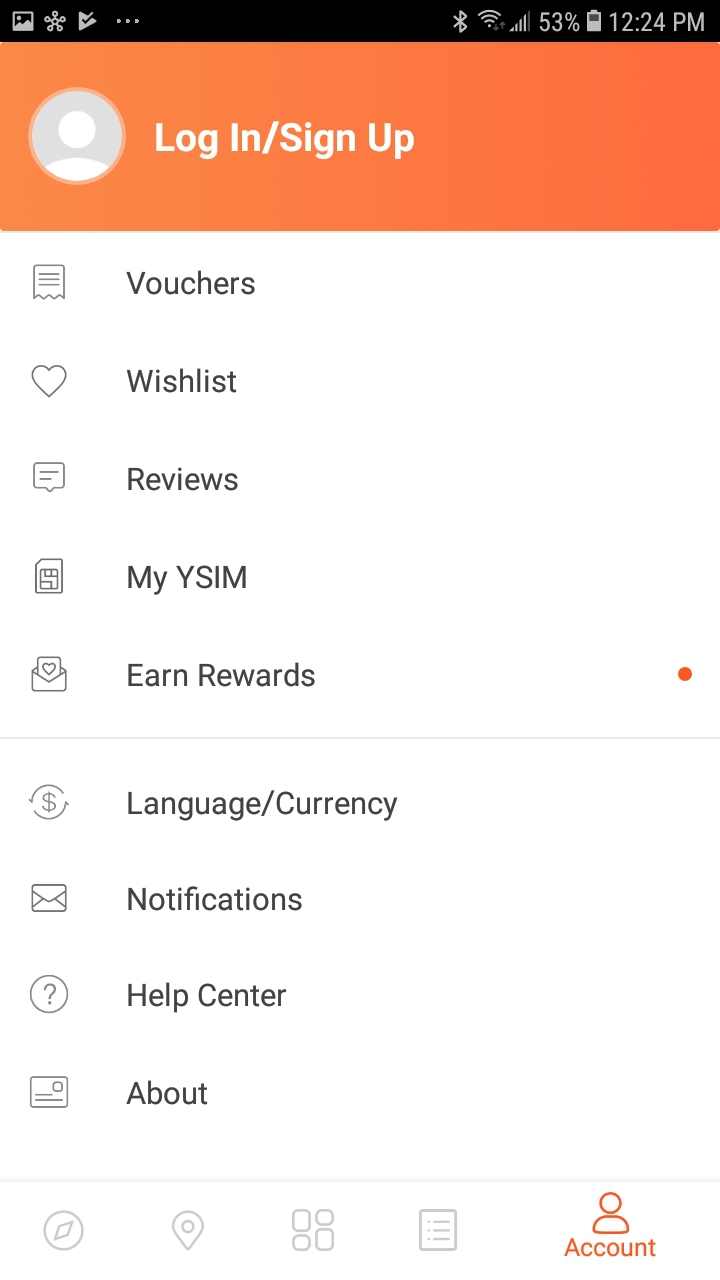Icon: (28, 87, 128, 186), (292, 1209, 335, 1252), (43, 1210, 85, 1251), (419, 1209, 458, 1252), (592, 1191, 630, 1235), (29, 784, 71, 821), (31, 975, 70, 1014), (32, 656, 69, 693), (172, 1210, 205, 1251), (30, 1076, 69, 1109), (32, 365, 68, 399), (33, 264, 66, 301), (31, 884, 68, 913), (36, 558, 65, 595), (34, 462, 67, 493)
Text: (156, 121, 415, 161), (128, 790, 398, 822), (128, 982, 287, 1014), (128, 662, 316, 688), (128, 885, 303, 912), (128, 565, 247, 596), (126, 270, 256, 296), (127, 368, 237, 394), (128, 467, 239, 492), (127, 1080, 209, 1106), (564, 1237, 657, 1257)
UpperTaskBar: (2, 2, 720, 43)
